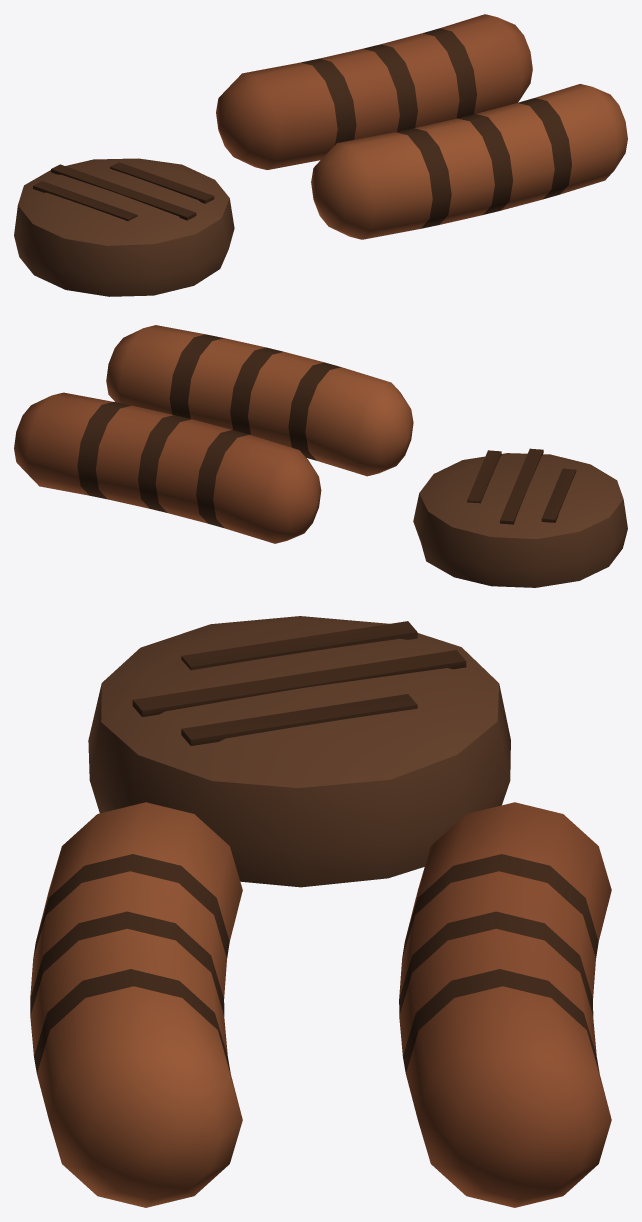
Rendered from grillFood.glb.
3 views of the same model, one above another, from view 1: azimuth 30°, elevation 25°; view 2: azimuth 150°, elevation 25°; view 3: azimuth 270°, elevation 25° (orthographic). The views are drawn at different scales.
Visible parts, largest first — view 1: grillFood; view 2: grillFood; view 3: grillFood.
Boxes of the visible parts, box(x1,y1,x2,y2) form: grillFood: box(14, 14, 627, 296); grillFood: box(14, 325, 627, 587); grillFood: box(30, 616, 611, 1207).
Bounding box in the file's own units: 0.2899 × 0.045 × 0.1349.
